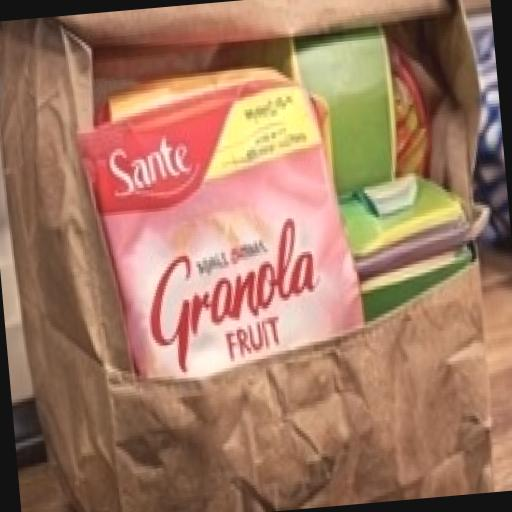granola: (62, 43, 386, 438)
